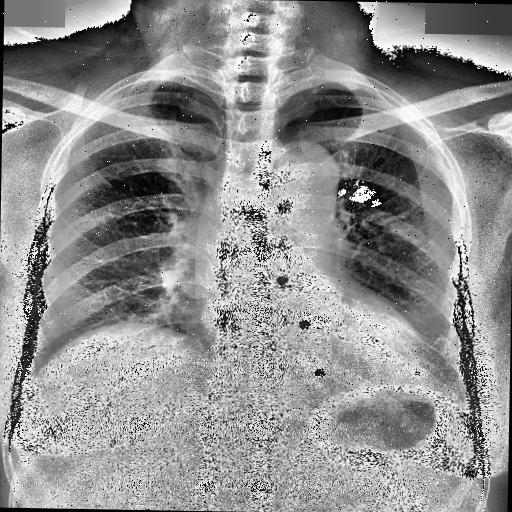0- Aortic enlargement: (262, 140, 342, 214), (266, 144, 340, 213), (264, 142, 338, 211)
11- Pleural thickening: (296, 80, 390, 99)
3- Cardiomegaly: (198, 294, 438, 388), (195, 302, 429, 390), (198, 310, 442, 394)
